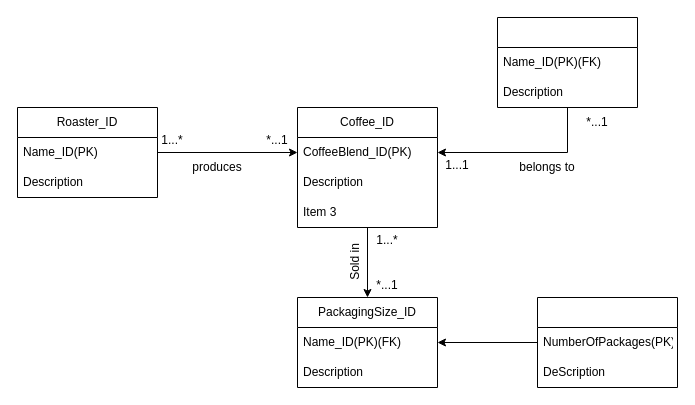
The diagram is 695 pixels wide and 405 high, and some of its shapes have lost their labels. The box of each missing label's shape, as (x1, y1, x2, y2) in pixels:
Packaging_ID: (536, 296, 678, 388)
RoasterCategory_ID: (496, 16, 638, 108)
